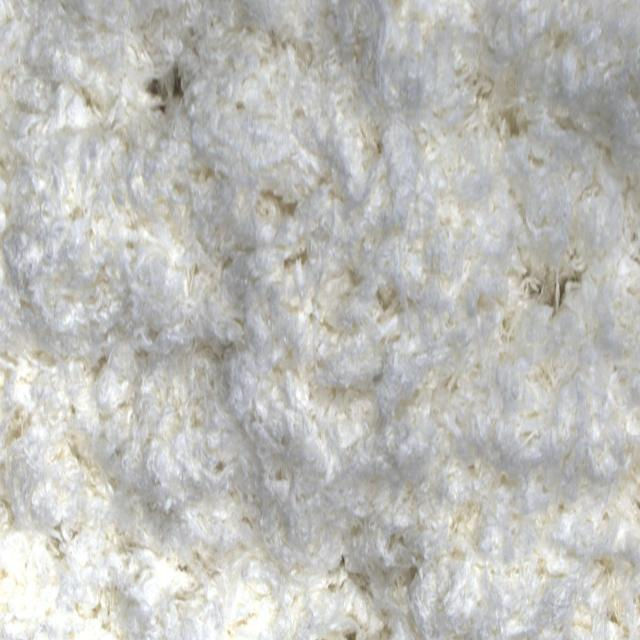dust: (155, 58, 187, 117)
